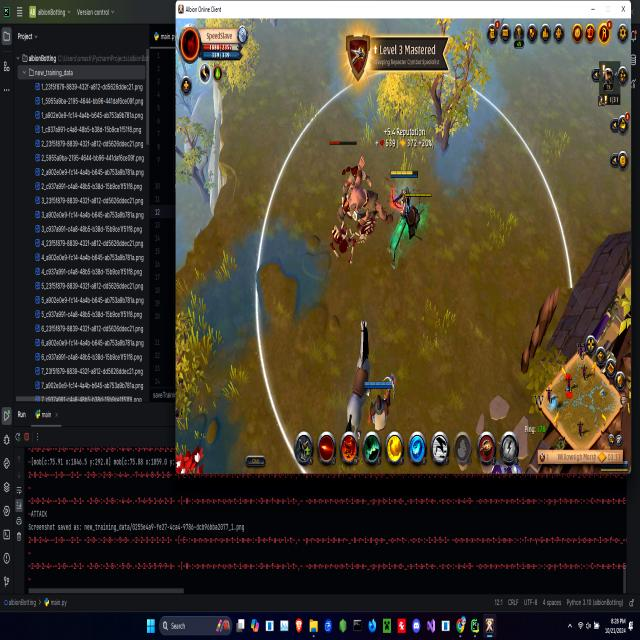ore: (326, 136, 374, 218)
red: (361, 368, 399, 436), (388, 165, 419, 226), (176, 442, 208, 475)
